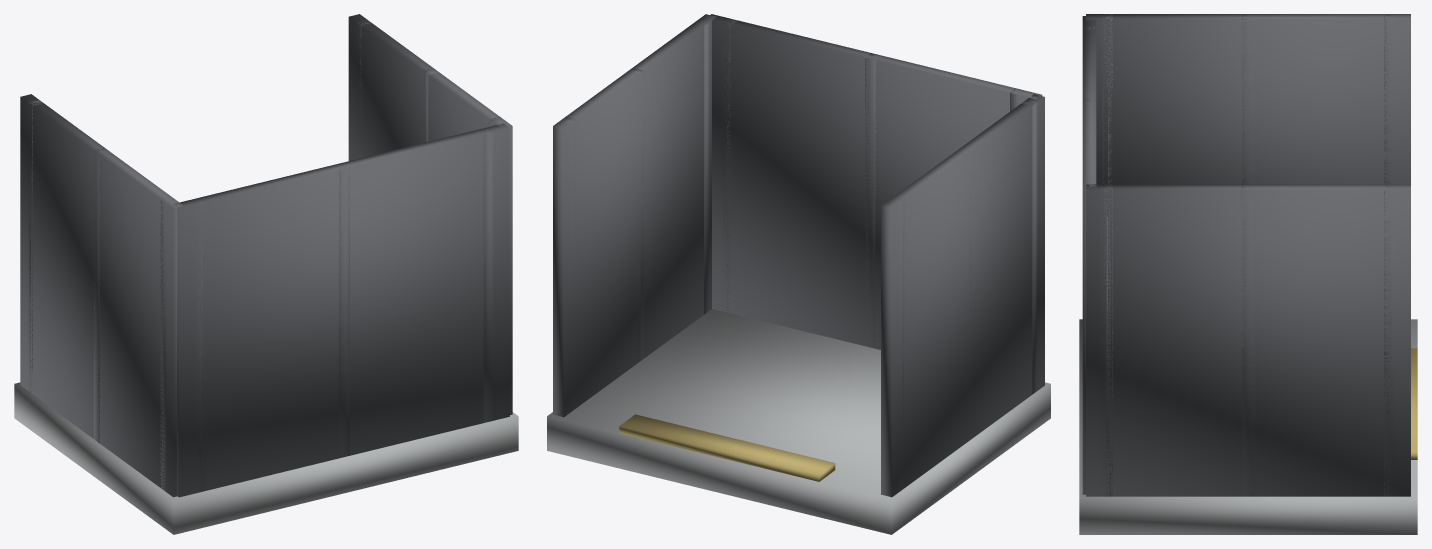
The model's file is floor_w125_d100_three.glb.
3 renders of one model, left to right at view 1: azimuth 30°, elevation 25°; view 2: azimuth 150°, elevation 25°; view 3: azimuth 270°, elevation 25°, orthographic. The views are drawn at different scales.
Visible parts, largest first — view 1: world; view 2: world; view 3: world.
Boxes of the visible parts, x1=… form: world: x1=14, y1=14, x2=518, y2=534; world: x1=547, y1=14, x2=1050, y2=534; world: x1=1079, y1=14, x2=1417, y2=534.
Bounding box in the file's own units: 1.25 × 1.12 × 1.
